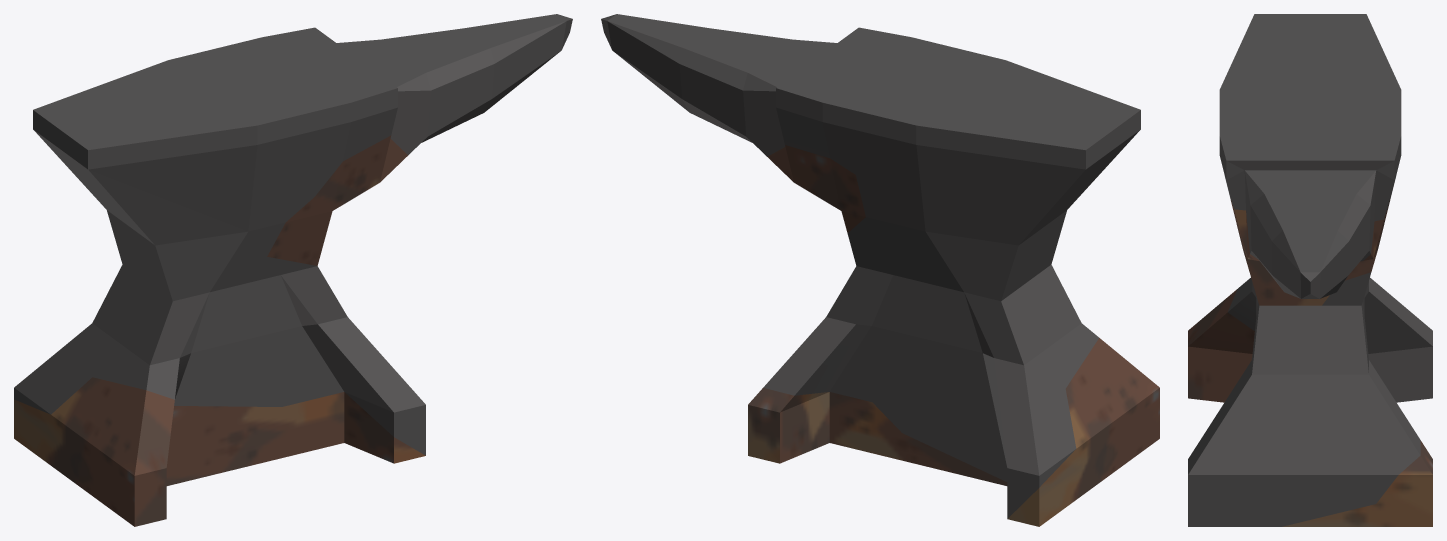
Rendered from SM_Prop_Anvil_01.fbx.
3 renders of one model, left to right at view 1: azimuth 30°, elevation 25°; view 2: azimuth 150°, elevation 25°; view 3: azimuth 270°, elevation 25°, orthographic.
Visible parts, largest first — view 1: SM_Prop_Anvil_01; view 2: SM_Prop_Anvil_01; view 3: SM_Prop_Anvil_01.
Part boxes in pixels (left/top/right/bottom): SM_Prop_Anvil_01: left=14, top=14, right=572, bottom=526; SM_Prop_Anvil_01: left=601, top=14, right=1159, bottom=526; SM_Prop_Anvil_01: left=1188, top=14, right=1432, bottom=526.
Size of the model in its own units: 79.32 by 52.68 by 32.34.
